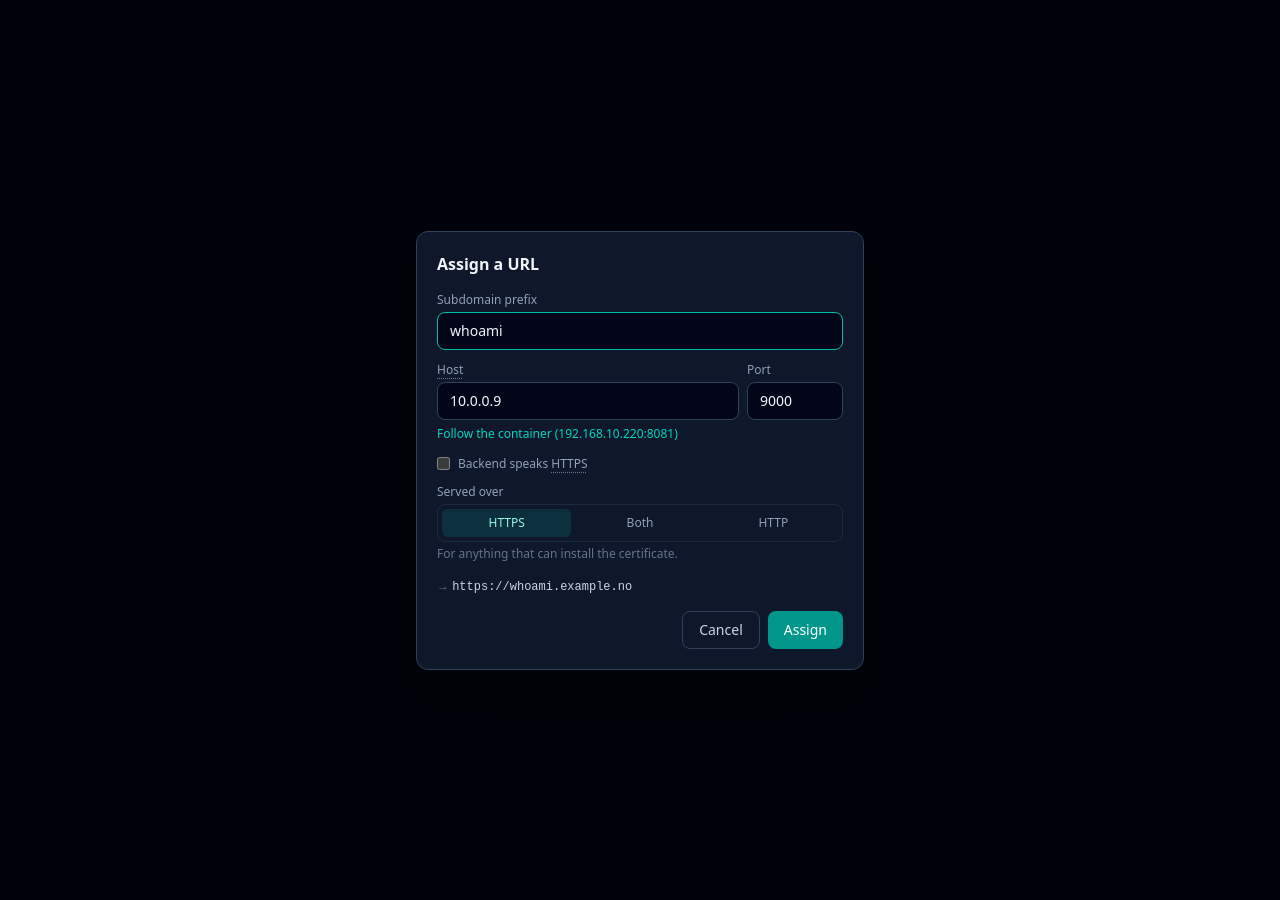
Test: a route set by hand is offered following, with the address it would get
Later steps or results of the test are not shown.
Click the button "Follow the container (192.168.10.220:8081)".
click(557, 434)  # box x1=437 y1=426 x2=678 y2=442
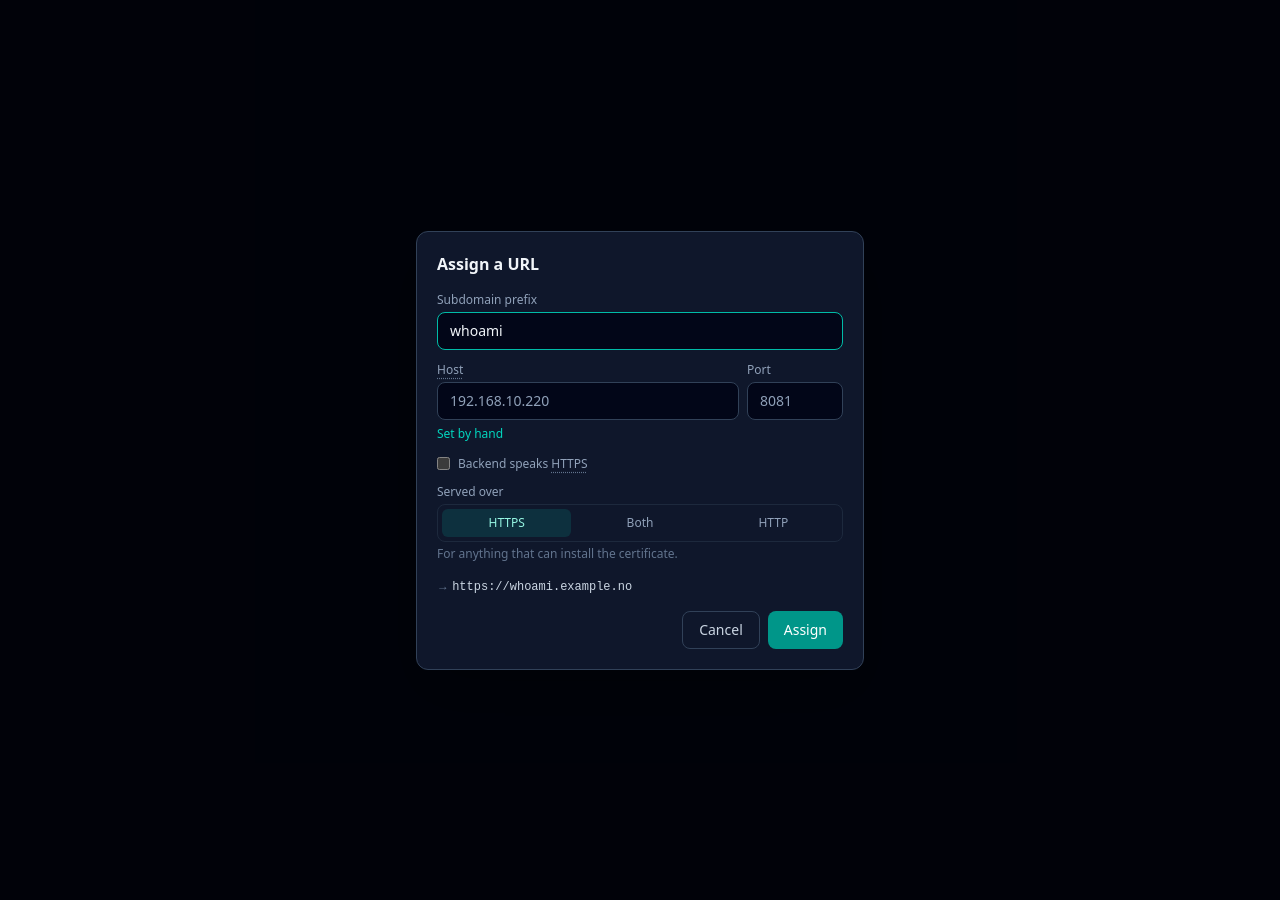
Check: the dropdown named "Host" holds "192.168.10.220", box x1=437 y1=382 x2=739 y2=420
Check: the field labelled "Port" holds "8081", box x1=747 y1=382 x2=843 y2=420
